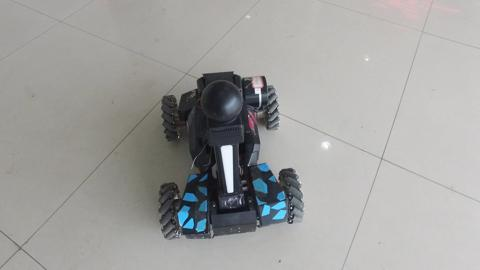chariot: (148, 62, 316, 246)
